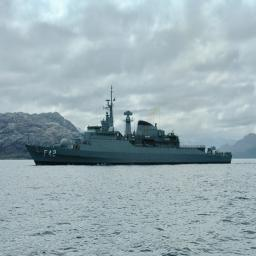Fragata: (25, 83, 234, 168)
